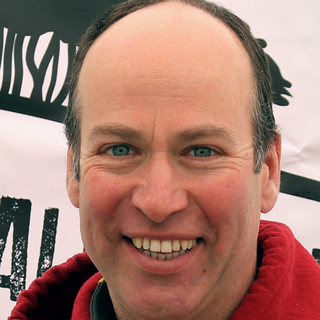eye: (171, 136, 231, 172), (88, 138, 150, 169)
